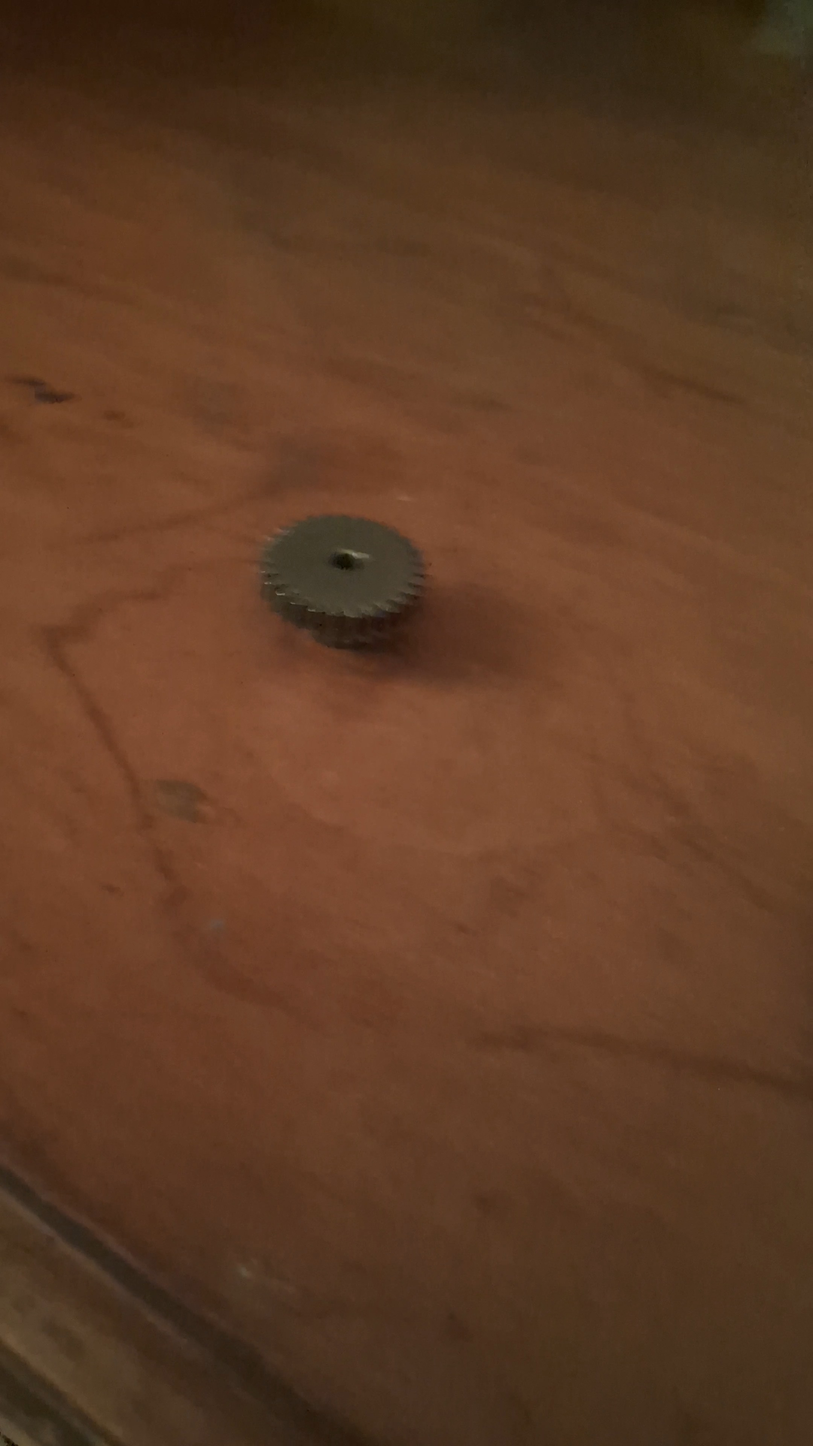spur gear: (261, 516, 425, 649)
